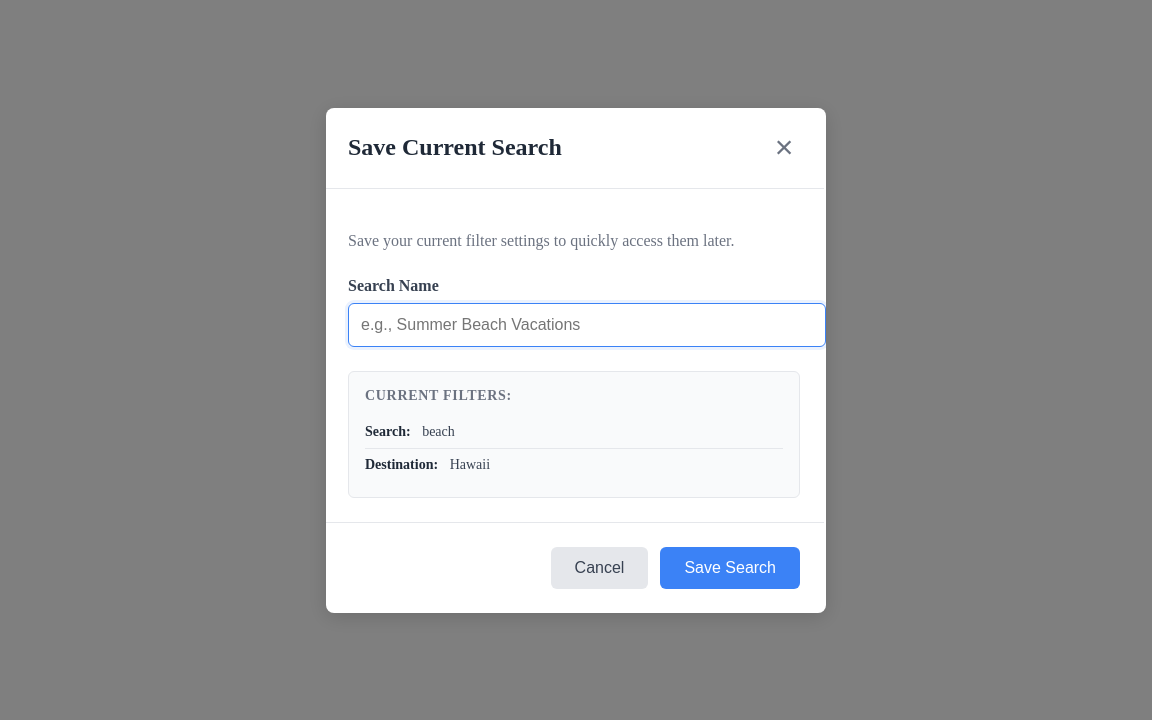
Test case: SaveSearchModal › shows error if name already exists
Step 1. Type "My Search" into the field labelled "Search Name" → (587, 324), box [348, 302, 826, 346]
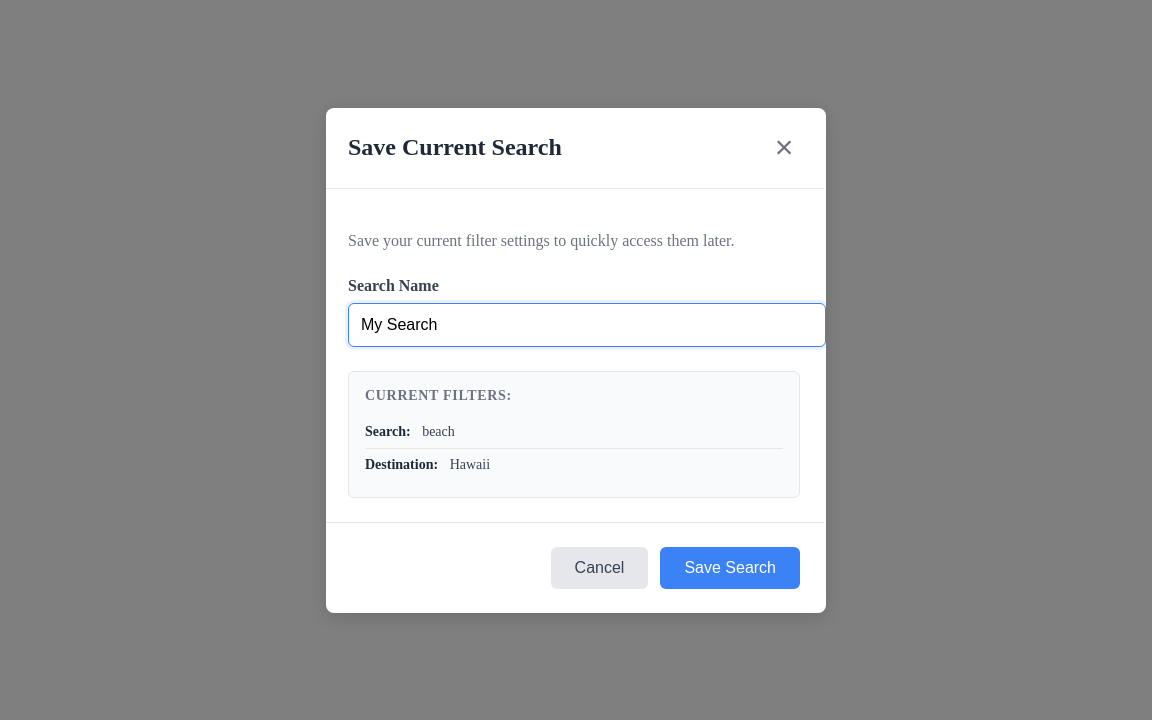
Step 2. Click the button "Save Search" → (730, 568), box [660, 546, 800, 588]
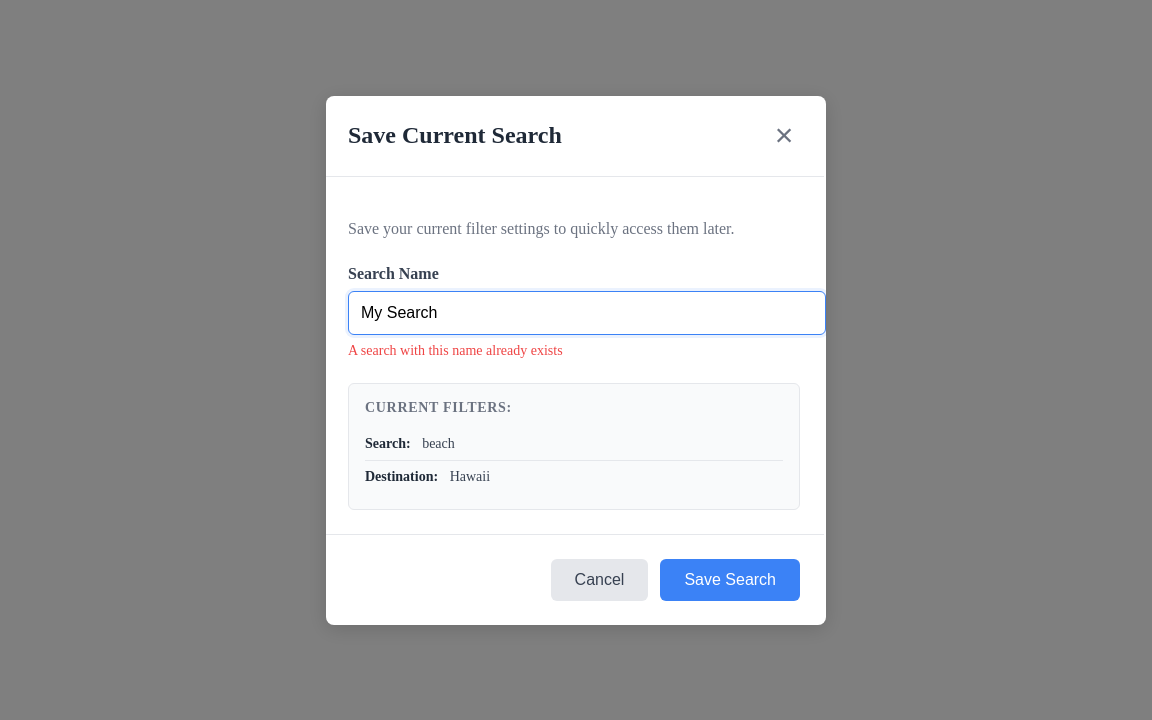
Result: the text "A search with this name already exists" is shown at [348, 342, 563, 358]
